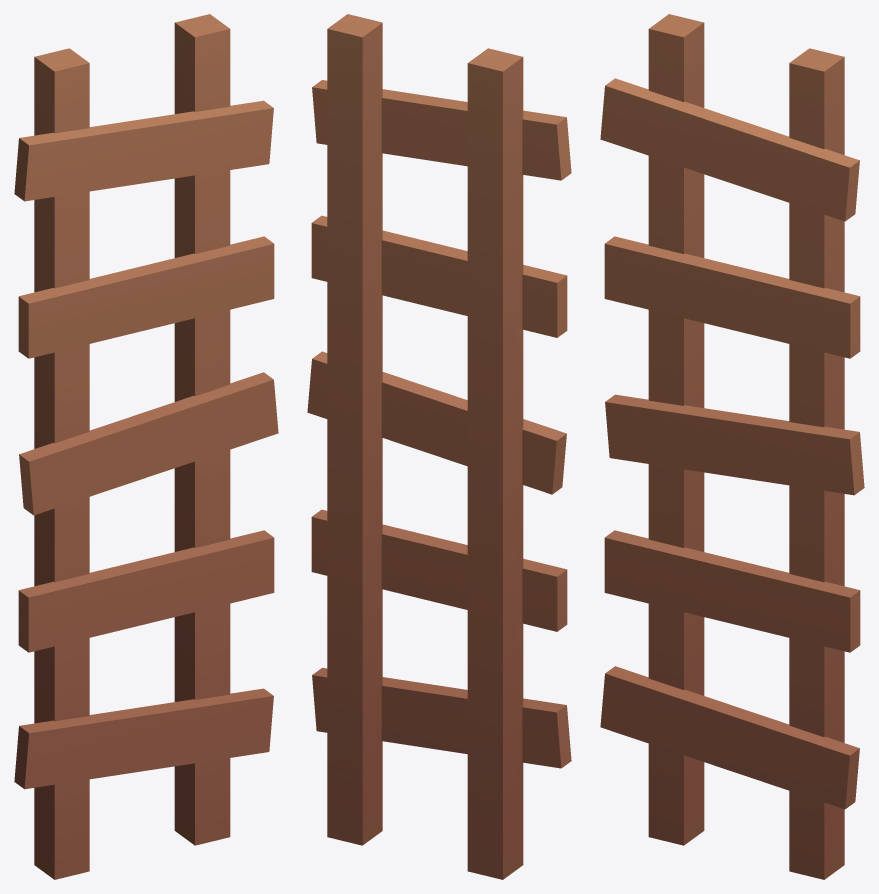
File: ladder.glb
3 renders of one model, left to right at view 1: azimuth 30°, elevation 25°; view 2: azimuth 150°, elevation 25°; view 3: azimuth 330°, elevation 25°, orthographic.
Visible parts, largest first — view 1: ladder; view 2: ladder; view 3: ladder.
Part boxes in pixels (<box>): ladder: <box>14,14,278,879</box>; ladder: <box>307,14,571,879</box>; ladder: <box>600,14,864,879</box>.
Bounding box in the file's own units: 0.2533 × 0.77 × 0.0508.
1 material, 1 textured.
